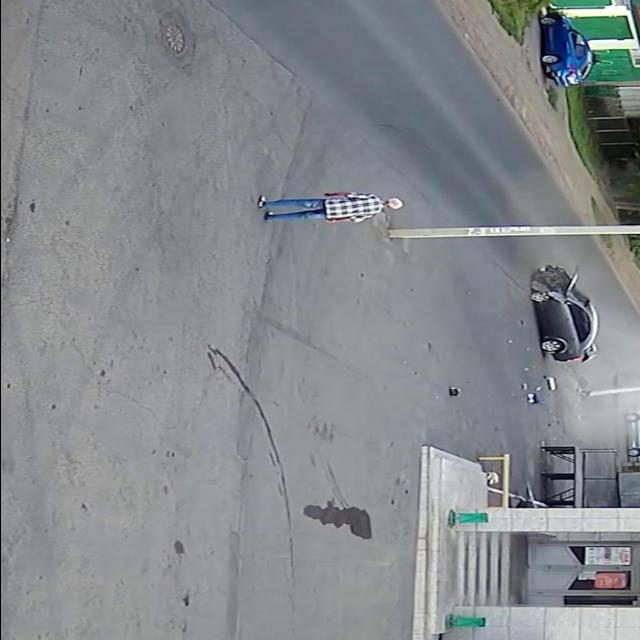accident: (493, 258, 607, 410)
